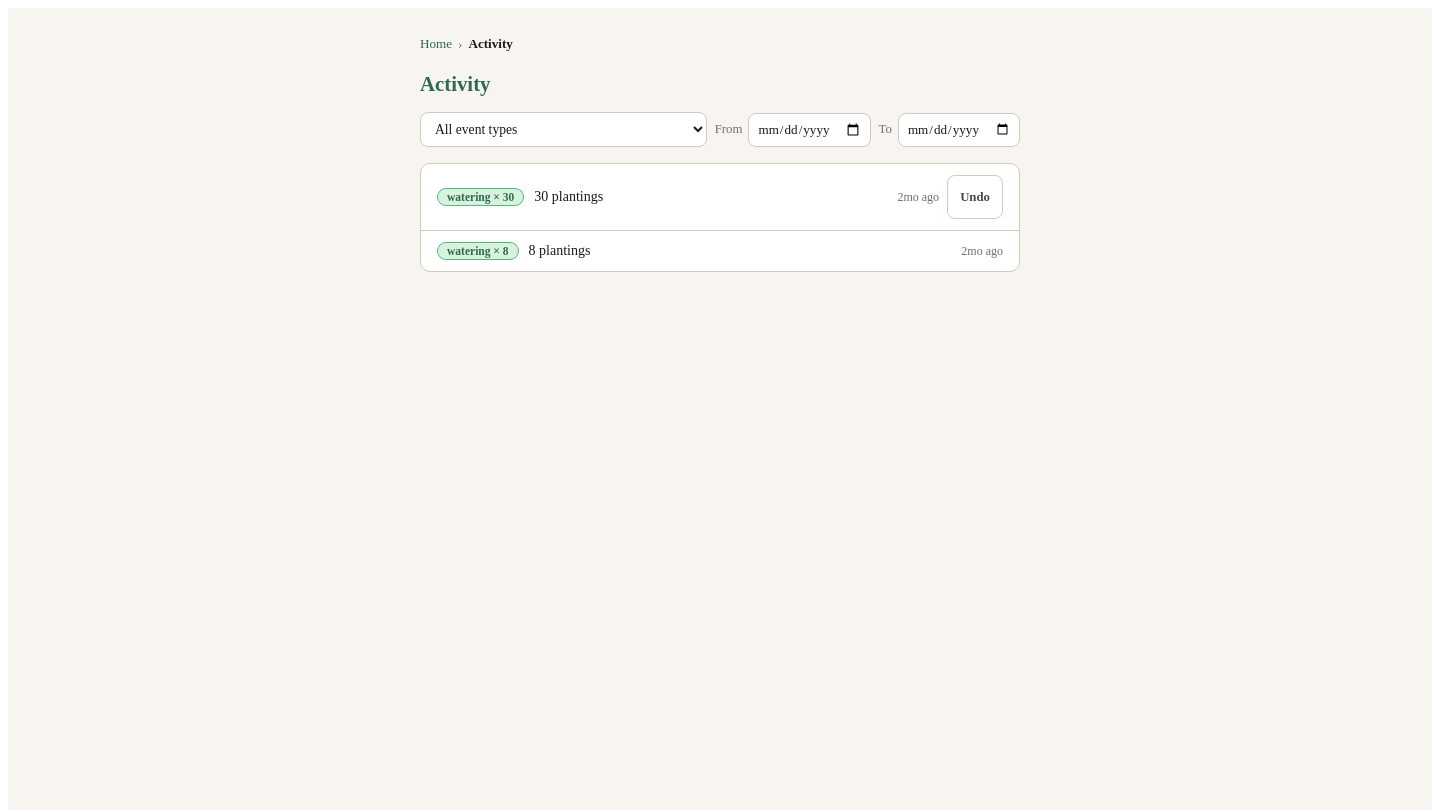
V4-BATCHUNDO-001 — the confirmation genuinely gates the delete › opening the confirm issues NO delete, and dismissing it still issues none
This screenshot has width=1440, height=810.
Expected: the dropdown named "Filter by event type" is shown, [420,112,707,147]
Step 1. Click the button "Undo" → (975, 197), box [947,175,1003,219]
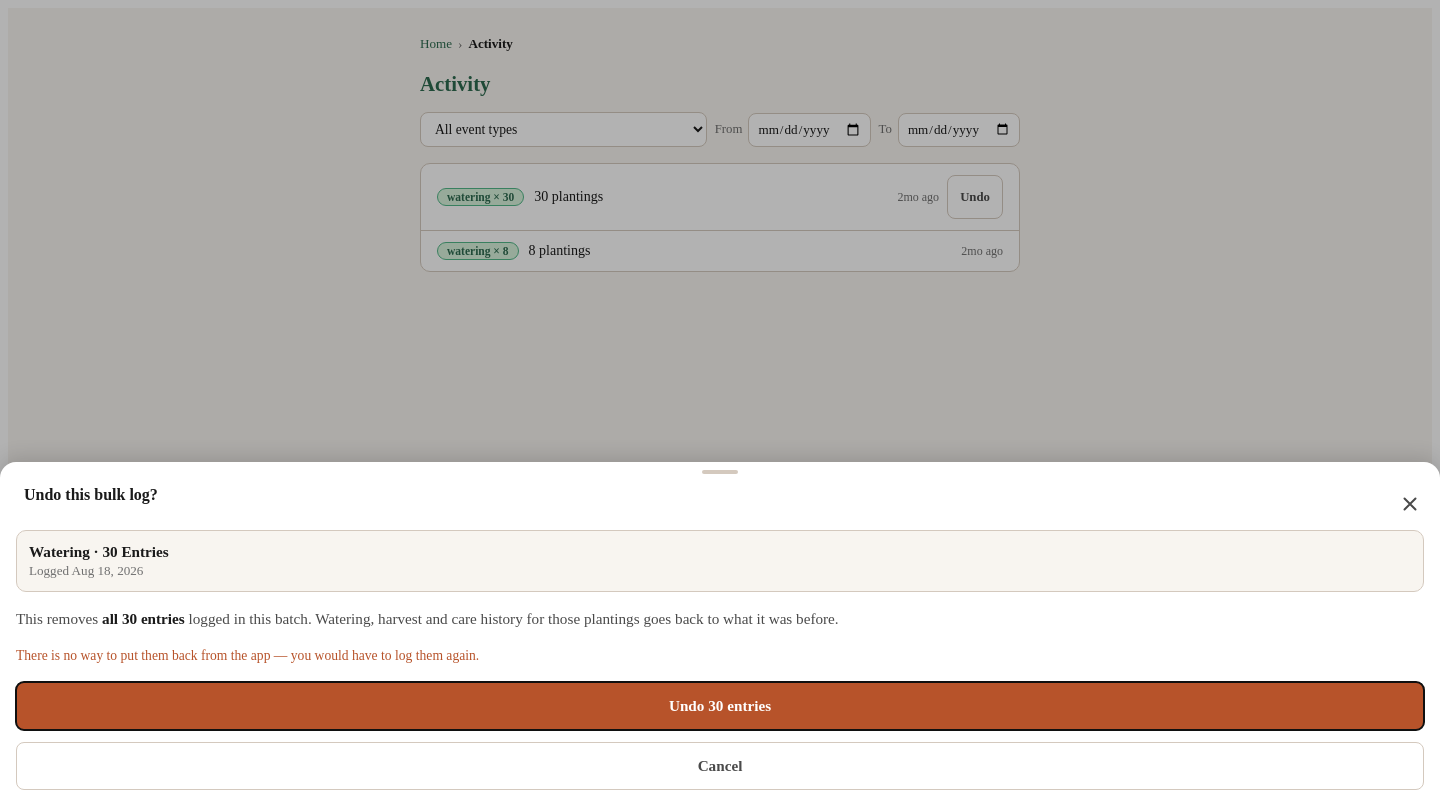
Expected: the text with test id "batch-undo-count" reads "all 30 entries", [102,610,185,627]
Step 2. Click the button with test id "batch-undo-cancel" → (720, 766), box [16,742,1424,790]
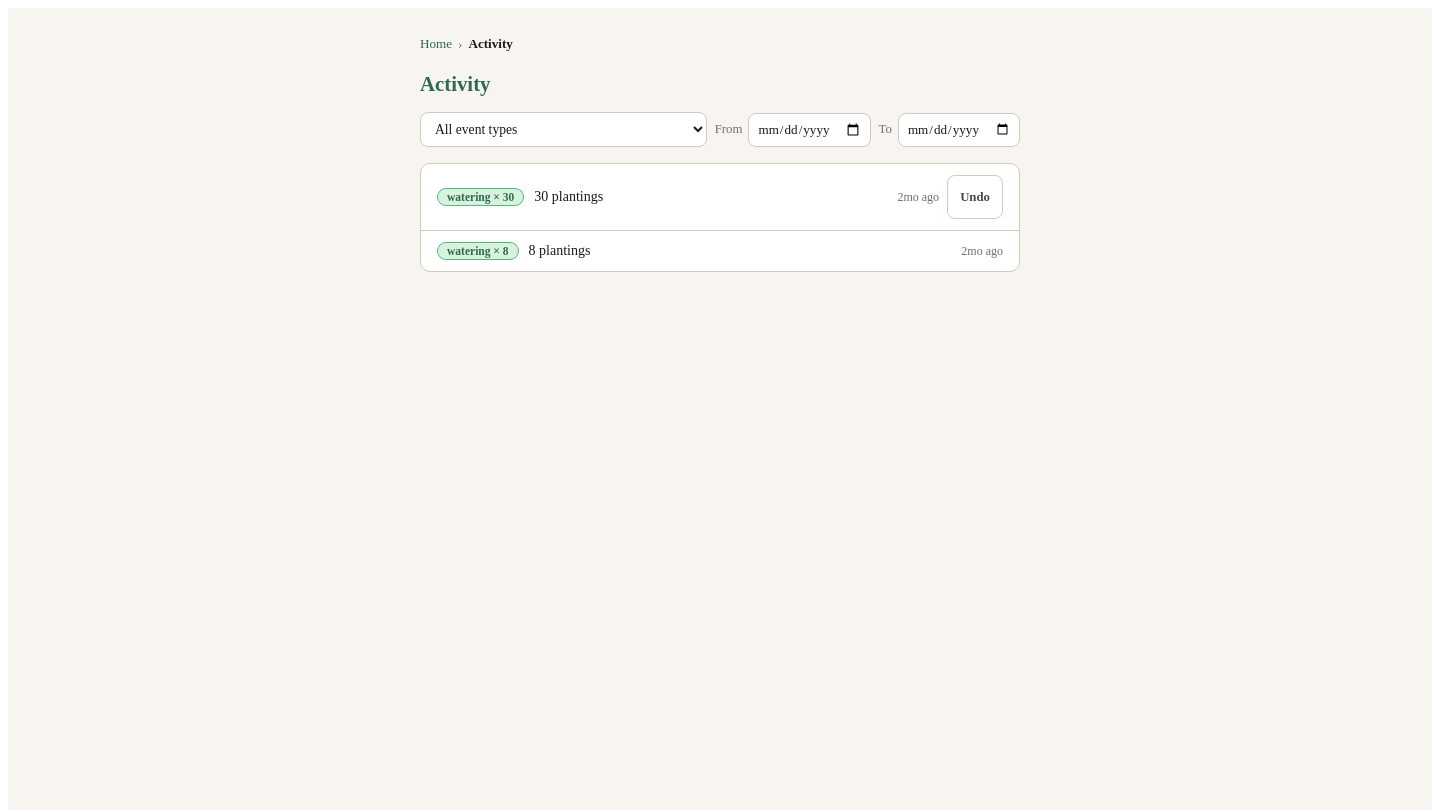
Expected: the element with test id "batch-undo-body" is gone
